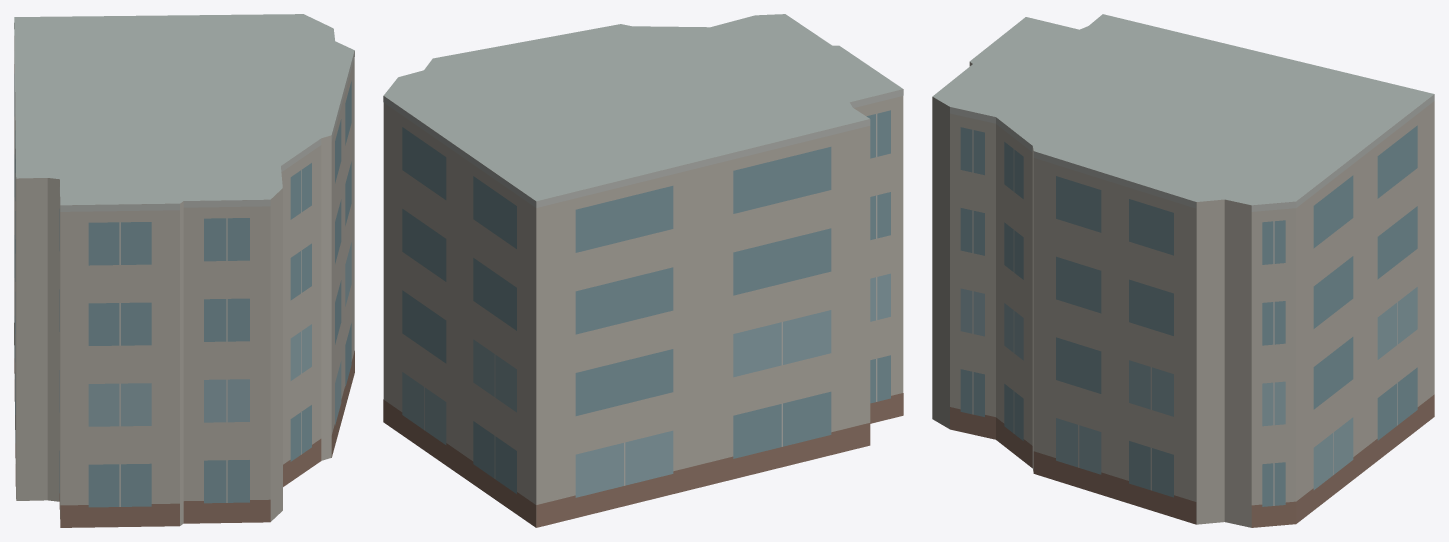
File: survey-upis-32655789.glb
3 views of the same model, side by side, from view 1: azimuth 30°, elevation 25°; view 2: azimuth 150°, elevation 25°; view 3: azimuth 270°, elevation 25° (orthographic).
Visible parts, largest first — view 1: survey-upis-32655789.tmp; view 2: survey-upis-32655789.tmp; view 3: survey-upis-32655789.tmp.
Boxes of the visible parts, x1,y1,x2,y2 form: survey-upis-32655789.tmp: [14, 14, 354, 527]; survey-upis-32655789.tmp: [383, 14, 903, 527]; survey-upis-32655789.tmp: [932, 14, 1434, 527].
Size of the model in its own units: 15.02 by 11.8 by 16.66.
